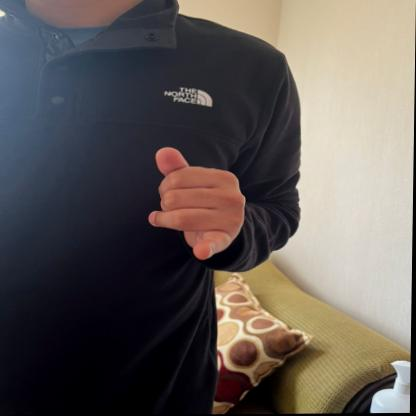Z: (146, 140, 253, 265)
